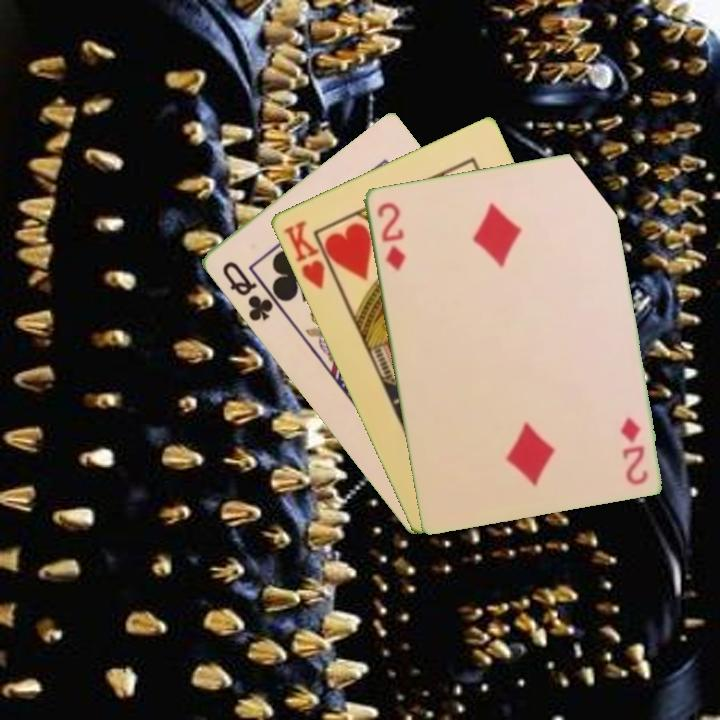2d: (373, 198, 408, 273), (617, 413, 650, 488)
Kh: (278, 216, 340, 292)
Qc: (218, 257, 276, 325)
